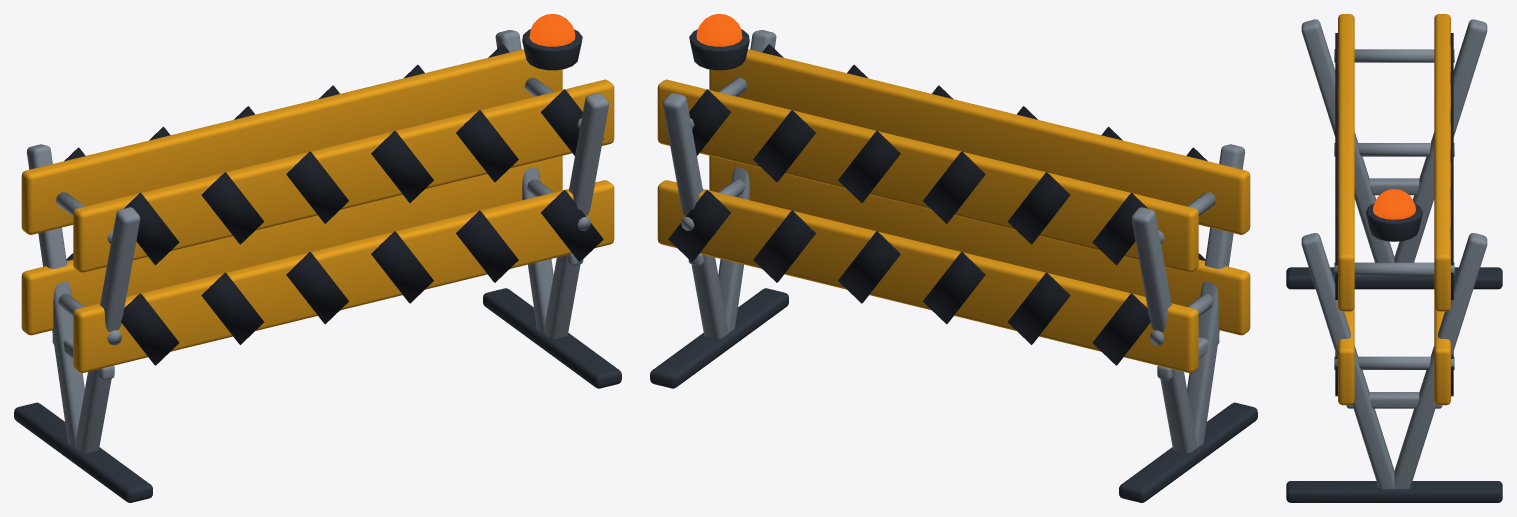
Rendered from crew_barricade.glb.
The picture shows the model from 3 angles, left to right: view 1: azimuth 30°, elevation 25°; view 2: azimuth 150°, elevation 25°; view 3: azimuth 270°, elevation 25°; orthographic projection. The views are drawn at different scales.
Visible parts, largest first — view 1: barr_plank_b1, barr_plank_0, barr_plank_1, barr_plank_b0, barr_leg_-1_1, barr_leg_1_1, barr_leg_-1_-1, barr_foot_-1, barr_foot_1, barr_stripe_1_2_0.24, barr_stripe_0_1_0.24, barr_stripe_1_4_0.24 (+12 smaller); view 2: barr_plank_1, barr_plank_b0, barr_plank_b1, barr_plank_0, barr_leg_-1_-1, barr_leg_1_-1, barr_leg_-1_1, barr_foot_-1, barr_foot_1, barr_stripe_1_2_-0.24, barr_stripe_0_1_-0.24, barr_stripe_1_4_-0.24 (+12 smaller); view 3: barr_plank_1, barr_plank_b1, barr_leg_1_1, barr_leg_1_-1, barr_foot_1, barr_leg_-1_1, barr_leg_-1_-1, barr_foot_-1, barr_plank_0, barr_plank_b0, barr_lamp_base, barr_bolt_1_1.05 (+6 smaller).
Part boxes in pixels (left/top/right/bottom): barr_plank_b1: left=21, top=49, right=562, bottom=234; barr_plank_0: left=73, top=180, right=614, bottom=372; barr_plank_1: left=73, top=79, right=614, bottom=272; barr_plank_b0: left=21, top=155, right=562, bottom=335; barr_leg_-1_1: left=75, top=207, right=140, bottom=453; barr_leg_1_1: left=543, top=93, right=608, bottom=338; barr_leg_-1_-1: left=26, top=144, right=84, bottom=447; barr_foot_-1: left=14, top=402, right=152, bottom=502; barr_foot_1: left=483, top=288, right=621, bottom=388; barr_stripe_1_2_0.24: left=286, top=151, right=348, bottom=223; barr_stripe_0_1_0.24: left=201, top=272, right=264, bottom=344; barr_stripe_1_4_0.24: left=456, top=110, right=518, bottom=182; barr_plank_1: left=709, top=49, right=1250, bottom=234; barr_plank_b0: left=657, top=180, right=1198, bottom=372; barr_plank_b1: left=657, top=79, right=1198, bottom=272; barr_plank_0: left=709, top=155, right=1250, bottom=335; barr_leg_-1_-1: left=1131, top=207, right=1196, bottom=453; barr_leg_1_-1: left=663, top=93, right=728, bottom=338; barr_leg_-1_1: left=1187, top=144, right=1245, bottom=447; barr_foot_-1: left=1119, top=402, right=1257, bottom=502; barr_foot_1: left=650, top=288, right=788, bottom=388; barr_stripe_1_2_-0.24: left=923, top=151, right=985, bottom=223; barr_stripe_0_1_-0.24: left=1007, top=272, right=1070, bottom=344; barr_stripe_1_4_-0.24: left=753, top=110, right=815, bottom=182; barr_plank_1: left=1338, top=14, right=1354, bottom=311; barr_plank_b1: left=1434, top=14, right=1450, bottom=311; barr_leg_1_1: left=1301, top=233, right=1394, bottom=489; barr_leg_1_-1: left=1394, top=233, right=1487, bottom=489; barr_foot_1: left=1286, top=481, right=1502, bottom=502; barr_leg_-1_1: left=1301, top=19, right=1394, bottom=262; barr_leg_-1_-1: left=1394, top=19, right=1487, bottom=262; barr_foot_-1: left=1286, top=267, right=1502, bottom=289; barr_plank_0: left=1338, top=308, right=1354, bottom=405; barr_plank_b0: left=1434, top=308, right=1450, bottom=405; barr_lamp_base: left=1366, top=203, right=1422, bottom=241; barr_bolt_1_1.05: left=1334, top=262, right=1454, bottom=276.
Bounding box in the file's own units: 2.4 × 1.42 × 0.9.
